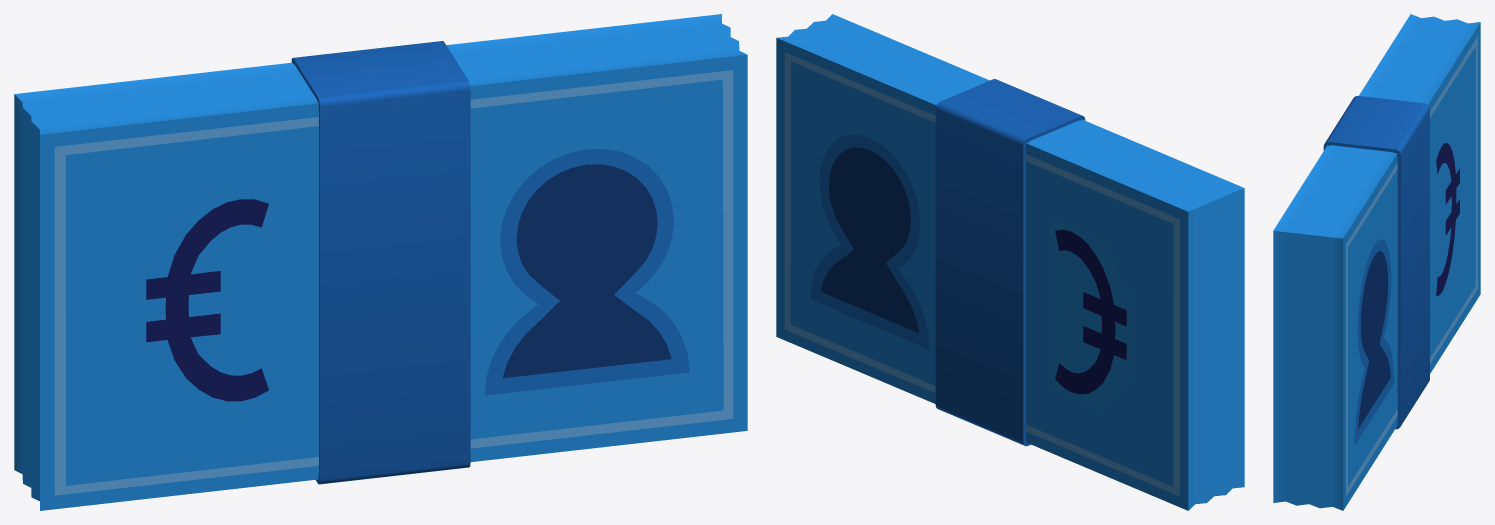
File: euro_banknote.fbx
3 renders of one model, left to right at view 1: azimuth 30°, elevation 25°; view 2: azimuth 150°, elevation 25°; view 3: azimuth 270°, elevation 25°, orthographic. The views are drawn at different scales.
Parts seen in each view (by area): view 1: Cube.956; view 2: Cube.956; view 3: Cube.956.
Part boxes in pixels (x1,y1,x2,y2): Cube.956: (14, 14, 747, 510); Cube.956: (776, 14, 1244, 510); Cube.956: (1273, 14, 1480, 510).
Bounding box in the file's own units: 220 × 128 × 85.86.
Materials: 1 (1 with a texture image).
